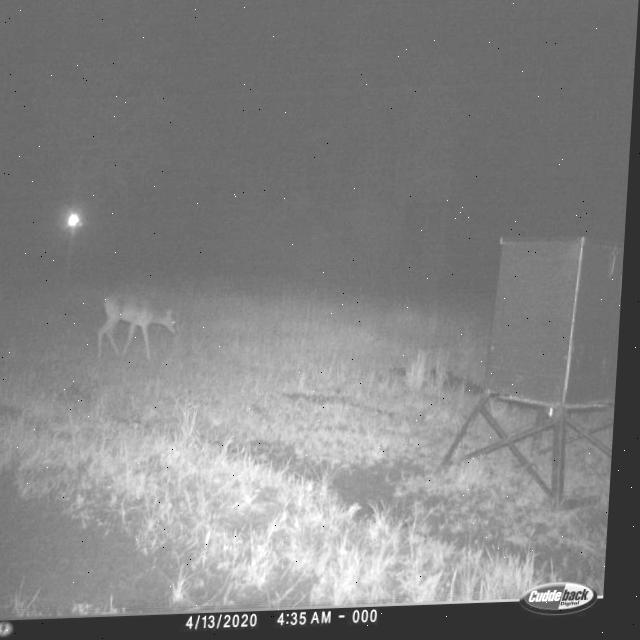Deer: (92, 283, 185, 373)
